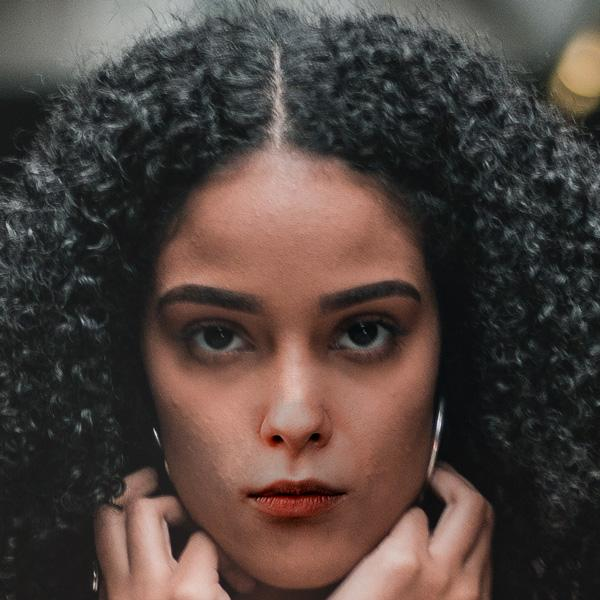Eyes: (165, 312, 268, 371), (319, 304, 412, 362)
